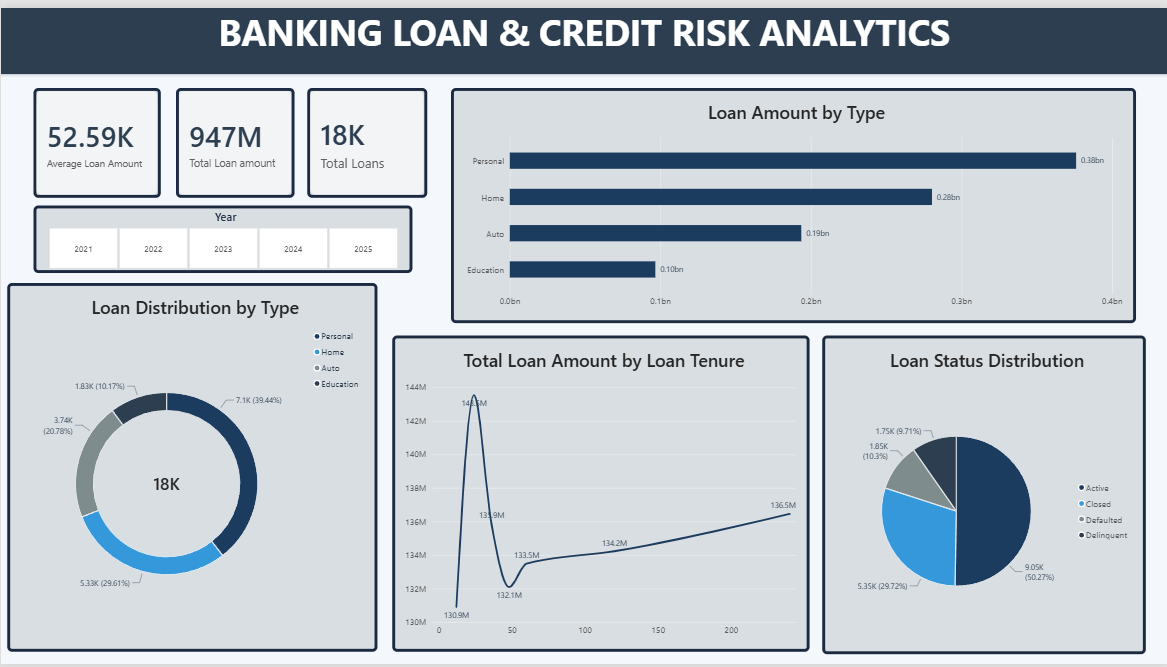

The dashboard page shown, as its layout file describes it:
{"tool":"powerbi","page":{"name":"Loan Portfolio Overview","canvas":[1920,1080],"ordinal":0},"visuals":[{"type":"cardVisual","fields":{"Data":["loans.Average Loan Amount"]},"box":[53.5,131.7,209.9,181.1],"z":0},{"type":"cardVisual","fields":{"Data":["loans.Total Loan amount"]},"box":[288.2,131.7,195.5,181.1],"z":1000},{"type":"cardVisual","fields":{"Data":["loans.Total Loans"]},"box":[504.3,131.7,197.6,181.1],"z":2000},{"type":"donutChart","title":"Loan Distribution by Type","fields":{"Category":["loans.Loan Type"],"Y":["CountNonNull(loans.Loan ID)"]},"box":[10.3,452.8,609.3,607.2],"z":3000},{"type":"clusteredBarChart","title":"Loan Amount by Type","fields":{"Category":["loans.Loan Type"],"Y":["loans.Total Loan amount"]},"box":[741,131.7,1128,387],"z":4000},{"type":"lineChart","title":"Total Loan Amount by Loan Tenure","fields":{"Category":["loans.Tenure"],"Y":["loans.Total Loan amount"]},"box":[644.3,539.3,687.5,520.8],"z":5000},{"type":"pieChart","title":"Loan Status Distribution","fields":{"Category":["loans.Loan Status"],"Y":["CountNonNull(loans.Loan ID)"]},"box":[1352.3,539.3,533.1,524.9],"z":6000},{"type":"slicer","title":"Year","fields":{"Values":["payments.Payment Date.Variation.Date Hierarchy.Year"]},"box":[53.5,325.2,623.7,111.1],"z":7000},{"type":"textbox","box":[0,0,1920.4,109.1],"z":8000}]}

Visuals, with their boxes in screenshot pixels (x1, y1, x2, y2), scaled from the page's 1920x1080 canvas onto the 1167x667 screenshot:
cardVisual - loans.Average Loan Amount: [x1=33, y1=81, x2=160, y2=193]
cardVisual - loans.Total Loan amount: [x1=175, y1=81, x2=294, y2=193]
cardVisual - loans.Total Loans: [x1=307, y1=81, x2=427, y2=193]
"Loan Distribution by Type" donutChart: [x1=6, y1=280, x2=377, y2=655]
"Loan Amount by Type" clusteredBarChart: [x1=450, y1=81, x2=1136, y2=320]
"Total Loan Amount by Loan Tenure" lineChart: [x1=392, y1=333, x2=809, y2=655]
"Loan Status Distribution" pieChart: [x1=822, y1=333, x2=1146, y2=657]
"Year" slicer: [x1=33, y1=201, x2=412, y2=269]
textbox: [x1=0, y1=0, x2=1166, y2=67]
